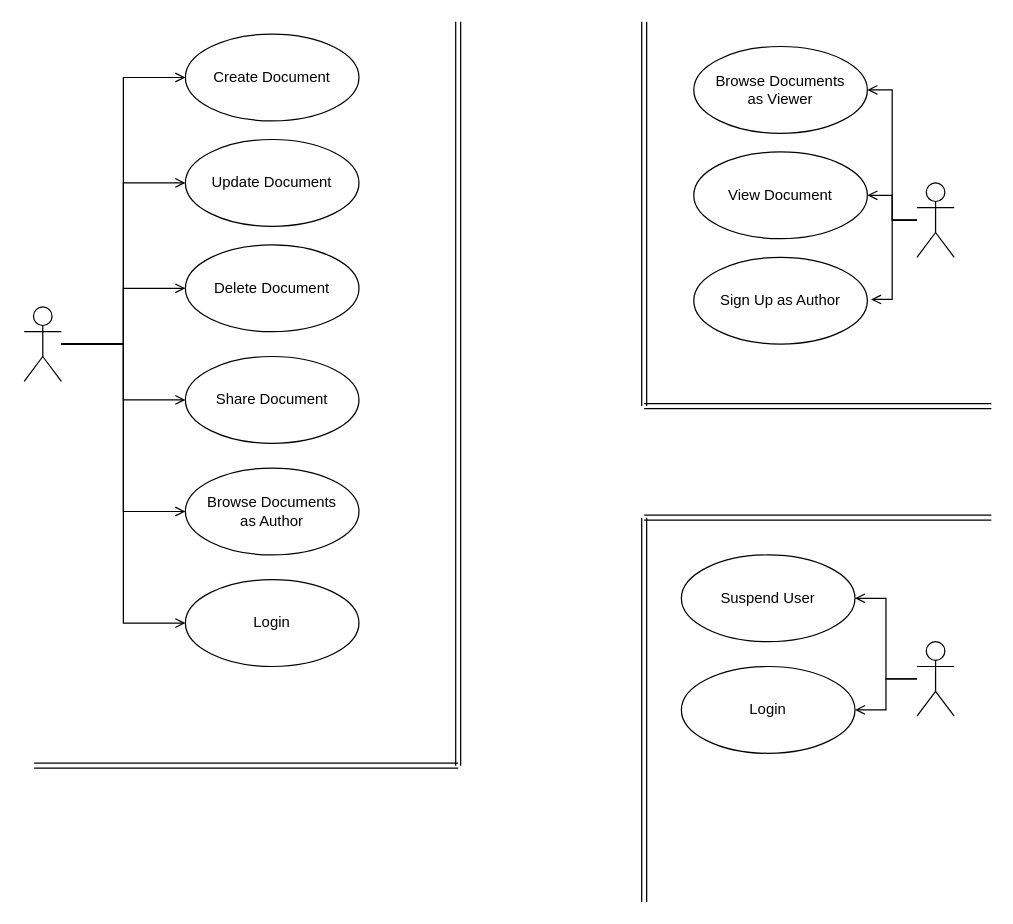
Image size: 1013x924. Some labels were removed from this diagram. Here are the shapes that lost their labels. From the top down, the centre of each, then its label:
At (x=935, y=219): "Viewer".
At (x=42, y=343): "Author".
At (x=935, y=678): "Admin".
